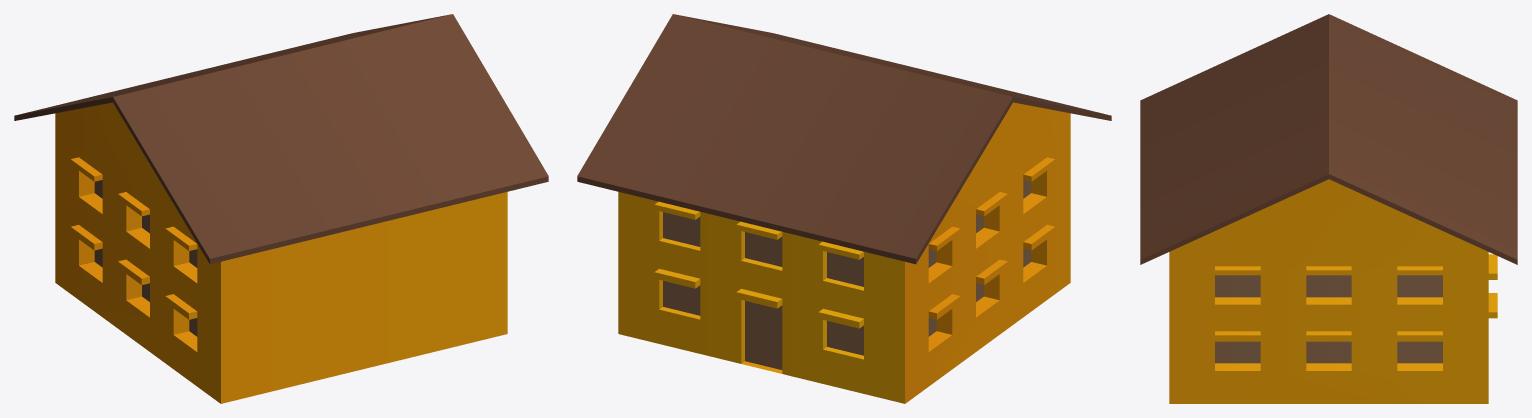
File: building 3.fbx
3 renders of one model, left to right at view 1: azimuth 30°, elevation 25°; view 2: azimuth 150°, elevation 25°; view 3: azimuth 270°, elevation 25°, orthographic. The views are drawn at different scales.
Parts seen in each view (by area): view 1: Cube.015; view 2: Cube.015; view 3: Cube.015.
Part boxes in pixels (<box>): Cube.015: <box>14,14,548,403</box>; Cube.015: <box>577,14,1111,403</box>; Cube.015: <box>1140,14,1517,403</box>.
Size of the model in its own units: 35.9 by 25.4 by 35.68.
1 material, 1 textured.
